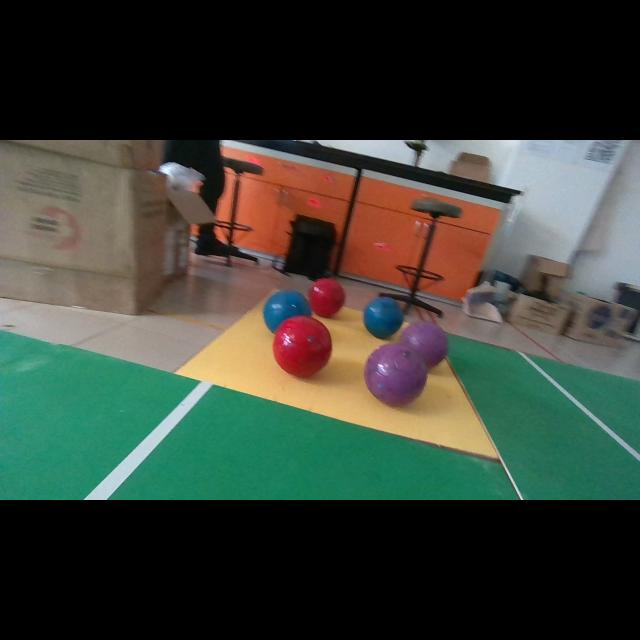B: (262, 290, 311, 332), (364, 298, 404, 339)
P: (364, 344, 428, 406), (399, 322, 448, 368)
R: (272, 315, 332, 378), (309, 279, 345, 318)
